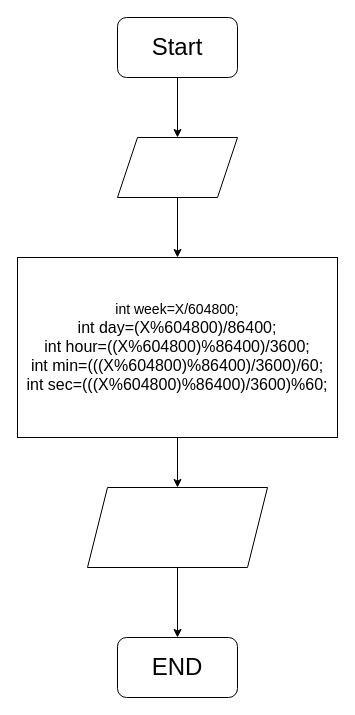
The diagram is 355 pixels wide and 715 high, and some of its shapes have lost their labels. Here are the shapes that lost their labels. From the top down, the centre of each, then its label:
point 177,167: Human Input Sec
point 177,527: Output in W/D/H/M/S
